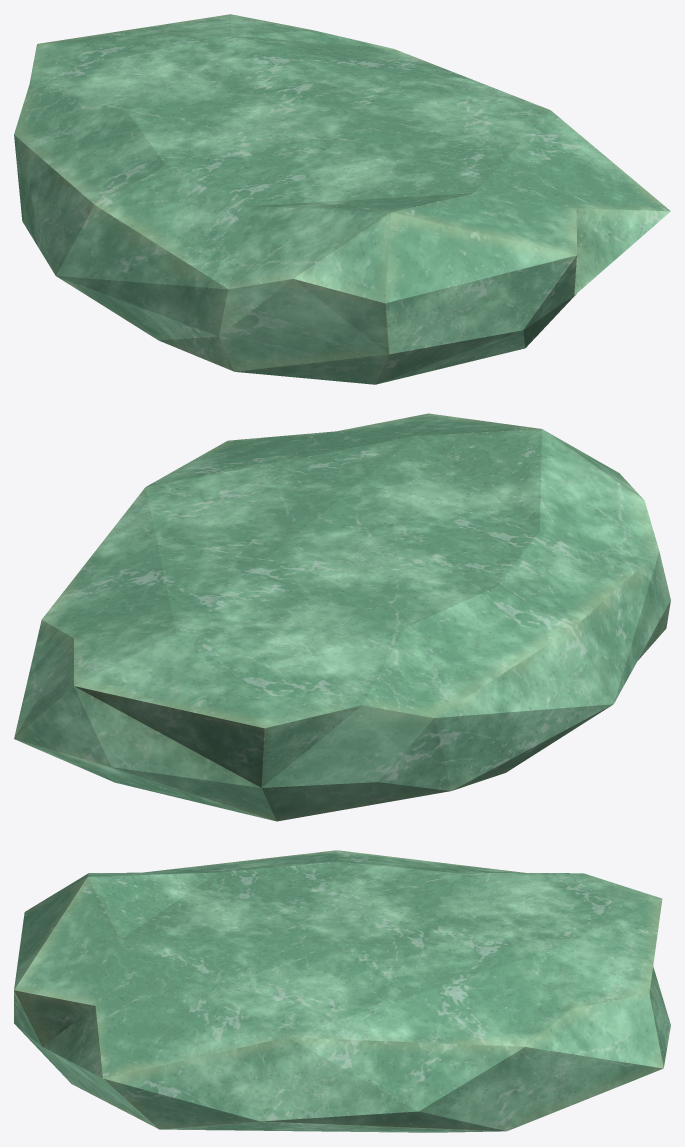
The model's file is Jade.glb.
The picture shows the model from 3 angles, top to bottom: view 1: azimuth 30°, elevation 25°; view 2: azimuth 150°, elevation 25°; view 3: azimuth 270°, elevation 25°; orthographic projection. The views are drawn at different scales.
Parts seen in each view (by area): view 1: Cylinder; view 2: Cylinder; view 3: Cylinder.
Boxes of the visible parts, <box> form: Cylinder: <box>14,14,670,384</box>; Cylinder: <box>14,413,670,821</box>; Cylinder: <box>14,850,670,1132</box>.
Bounding box in the file's own units: 1.23 × 0.4809 × 1.49.
1 material, 1 textured.
